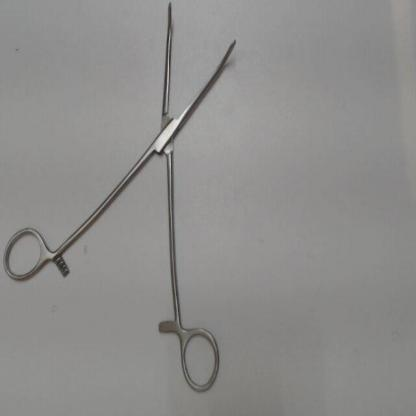Lahey Forceps: (2, 0, 240, 398)
